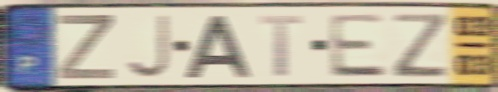A: (183, 13, 253, 80)
E: (327, 12, 390, 80)
J: (122, 12, 172, 81)
T: (256, 13, 305, 79)
Z: (55, 13, 117, 82), (390, 11, 449, 79)
